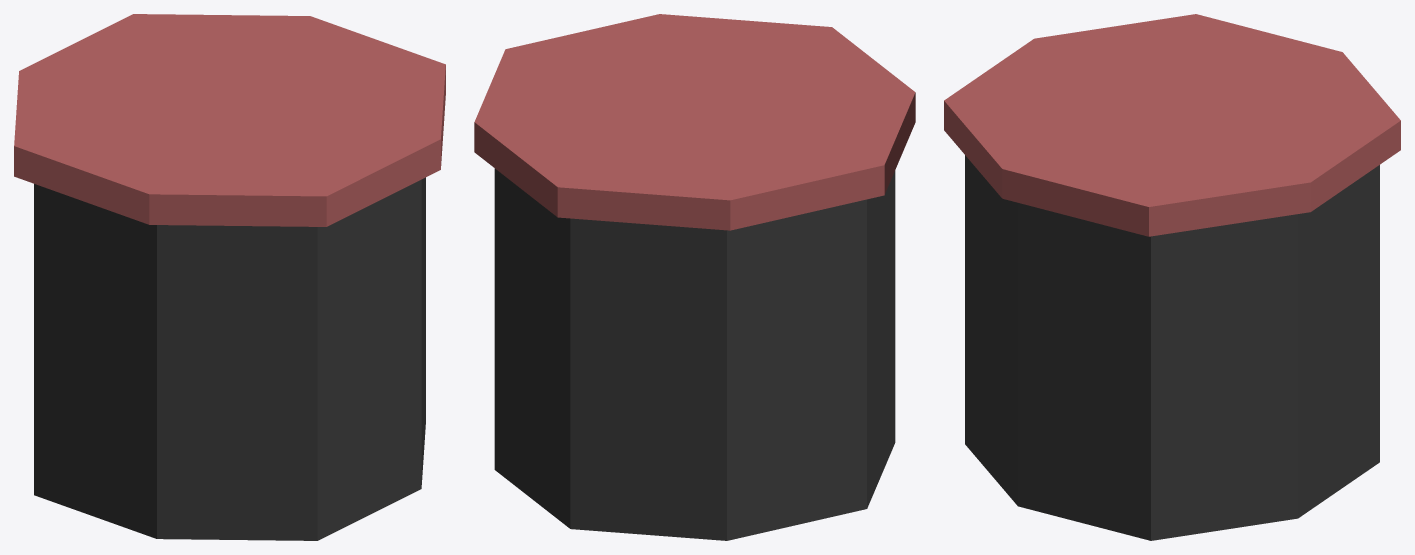
The model's file is Kitchen_Jar3.fbx.
3 views of the same model, side by side, from view 1: azimuth 30°, elevation 25°; view 2: azimuth 150°, elevation 25°; view 3: azimuth 270°, elevation 25° (orthographic). The views are drawn at different scales.
Parts seen in each view (by area): view 1: Kitchen_Jar3; view 2: Kitchen_Jar3; view 3: Kitchen_Jar3.
Boxes of the visible parts, x1,y1,x2,y2 form: Kitchen_Jar3: (14,14,445,540); Kitchen_Jar3: (474,14,915,540); Kitchen_Jar3: (944,14,1400,540).
Bounding box in the file's own units: 29.11 × 24.09 × 29.11.
